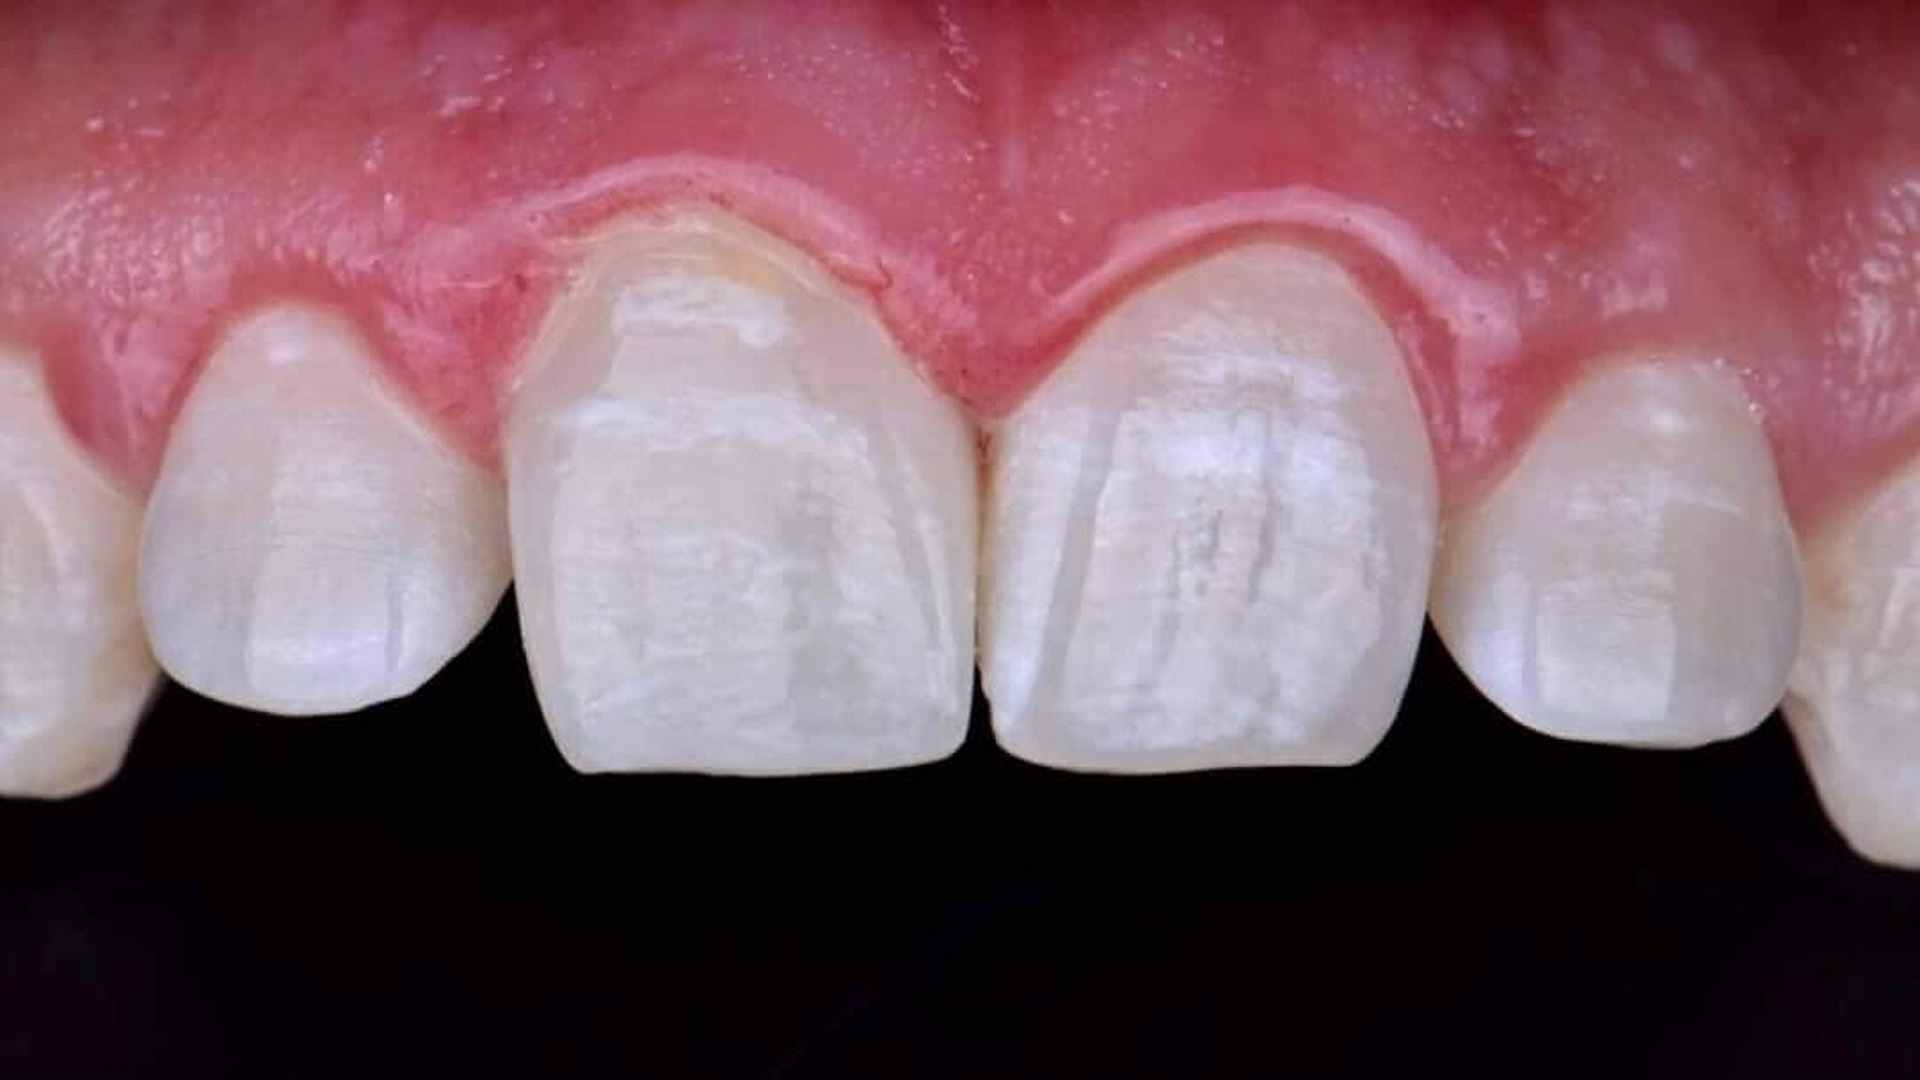tooth: (501, 203, 980, 775), (977, 224, 1443, 775), (136, 301, 512, 716), (1428, 353, 1804, 750), (1, 336, 164, 799), (1782, 419, 1917, 872)
